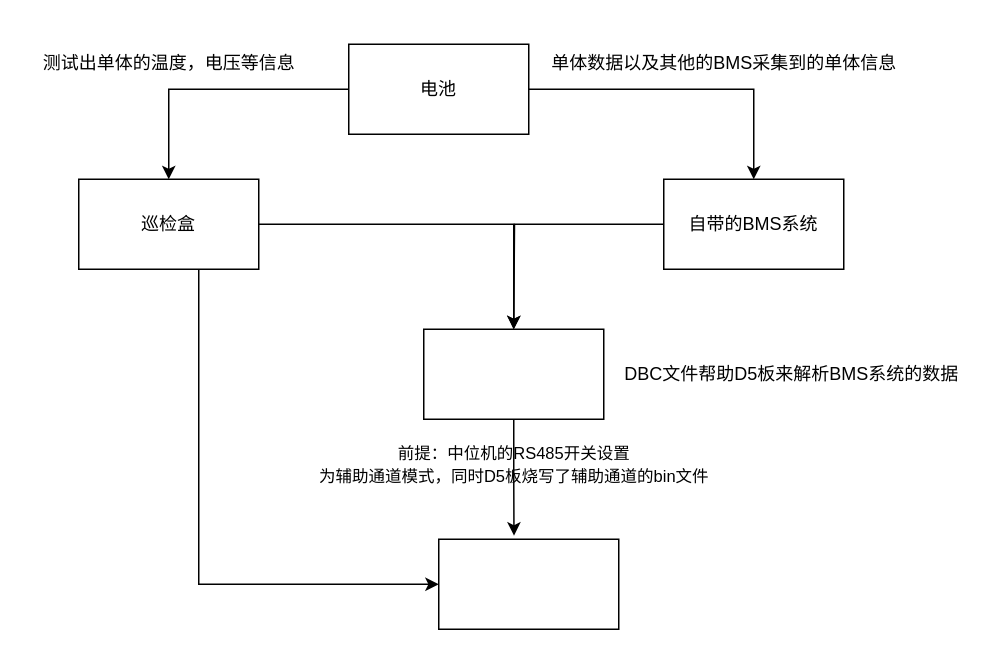
The diagram is 1004 pixels wide and 656 high, and some of its shapes have lost their labels. The shapes that lost their labels are listed below. From the top down, each one's box as (x1, y1, x2, y2) in pixels, then its label:
(422, 328, 604, 419): D5板
(437, 538, 619, 629): 中位机
